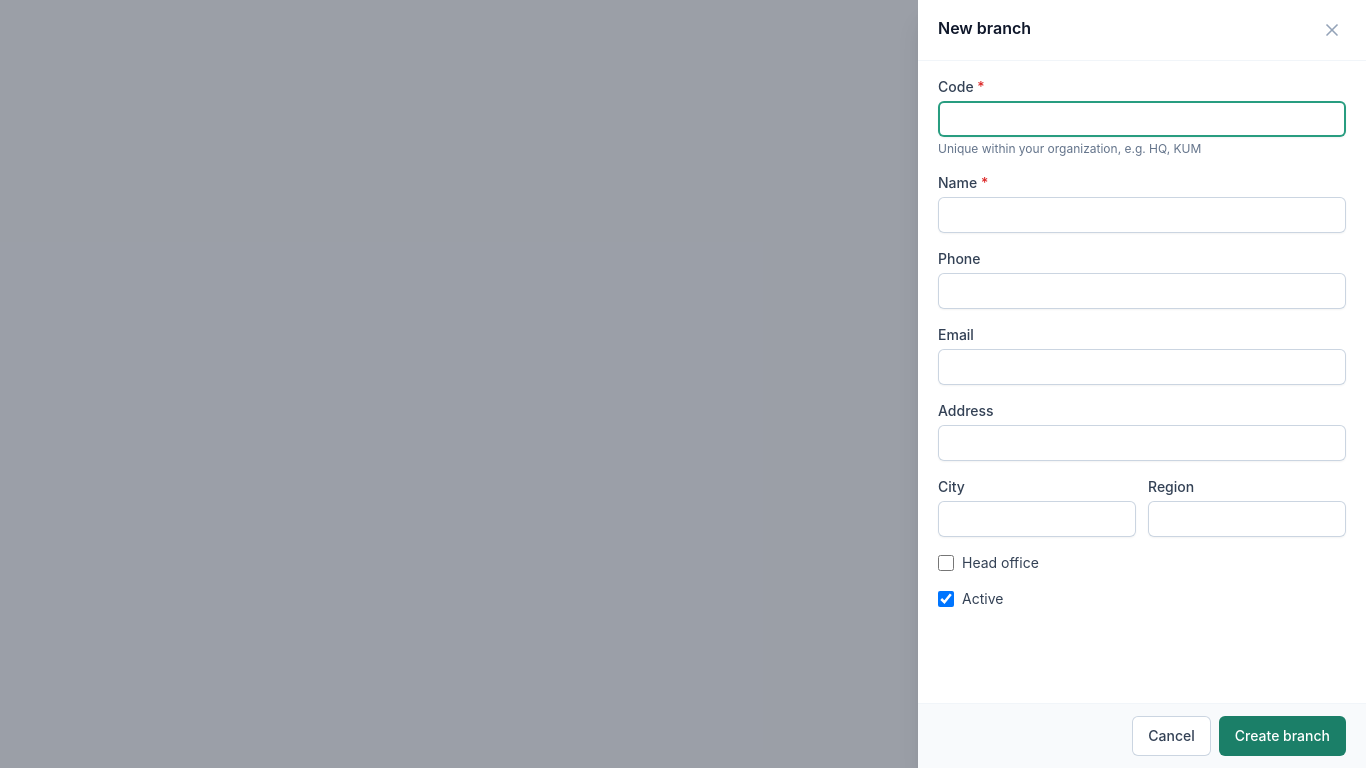
it: administration forms › shows the server message (duplicate code) inside the form and keeps it open
Type "HQ" into the field labelled "Code *".
click(1142, 119); type("HQ")  # box [938,101,1346,137]
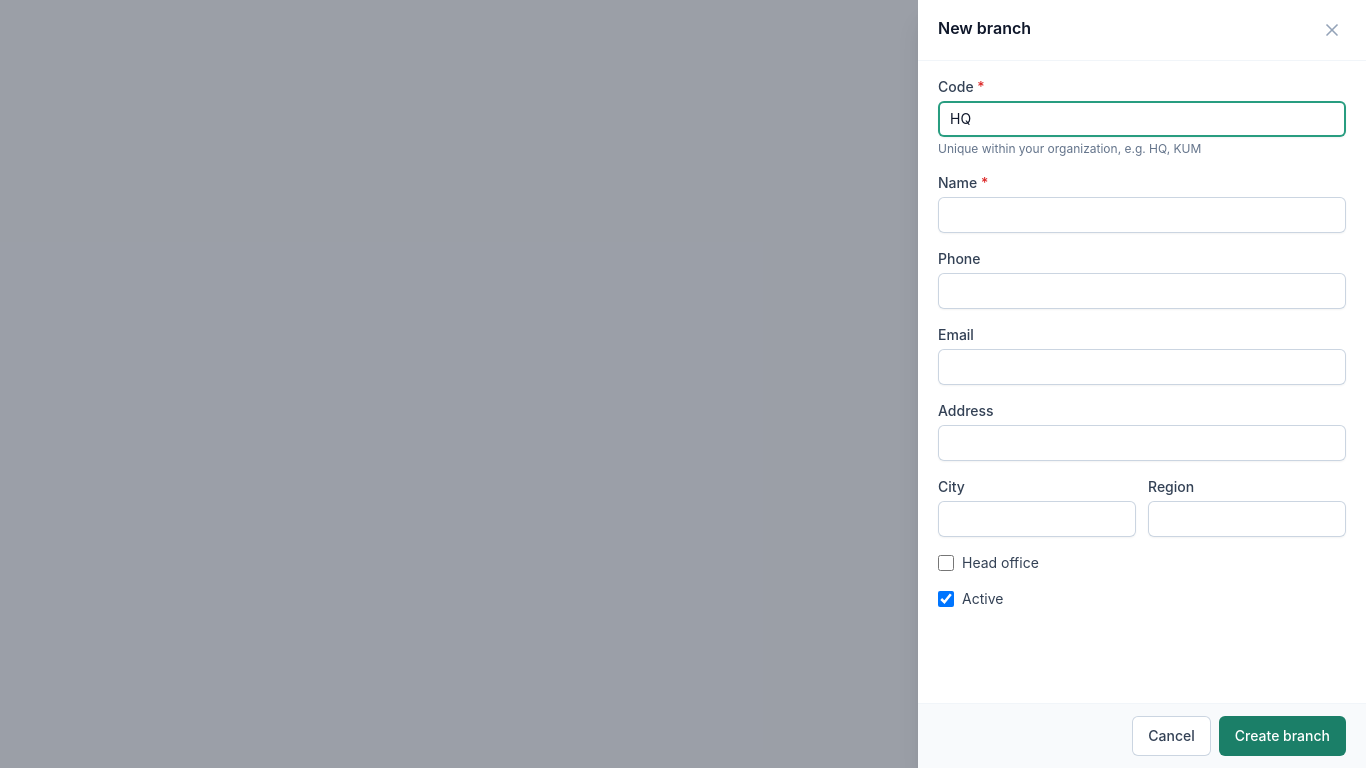
Type "Dup" into the field labelled "Name *".
click(1142, 215); type("Dup")  # box [938,197,1346,233]
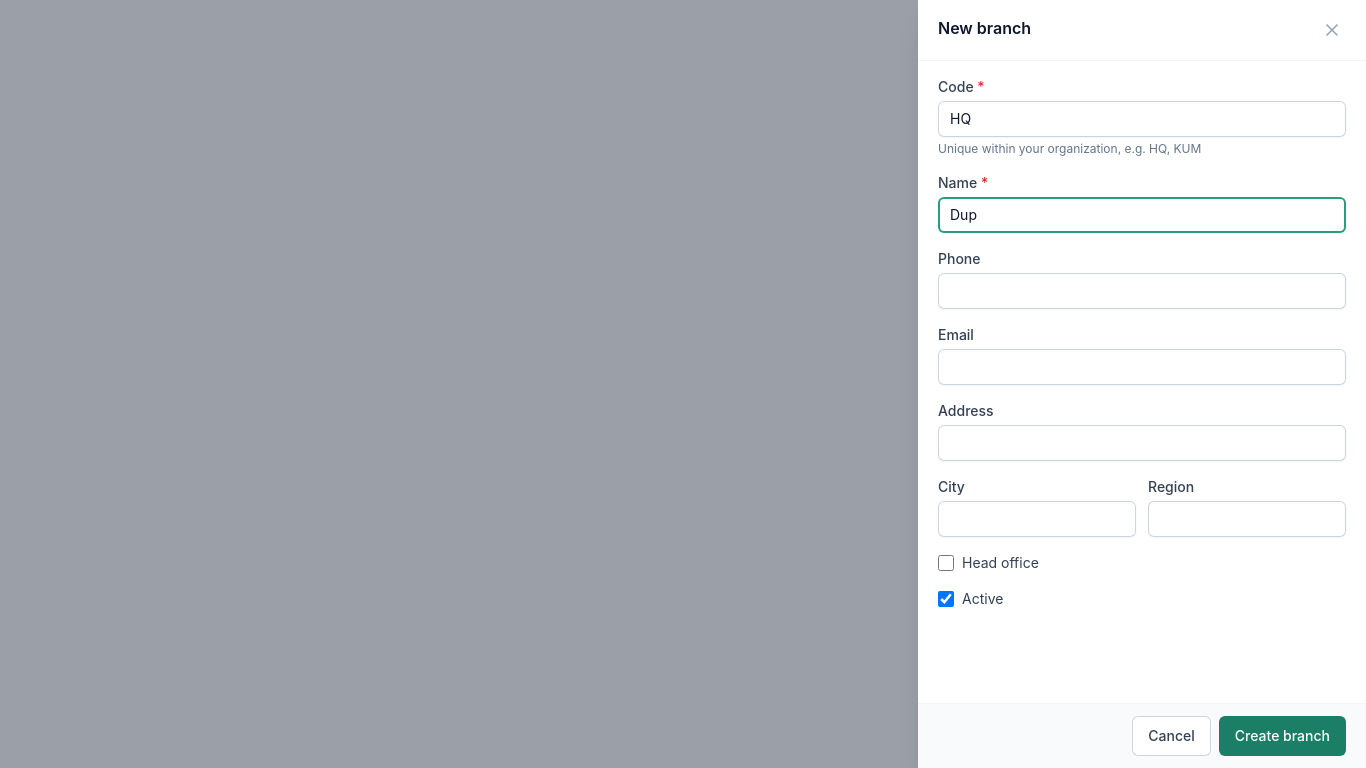
Click the button "Create branch".
click(1282, 736)  # box [1219,716,1346,756]
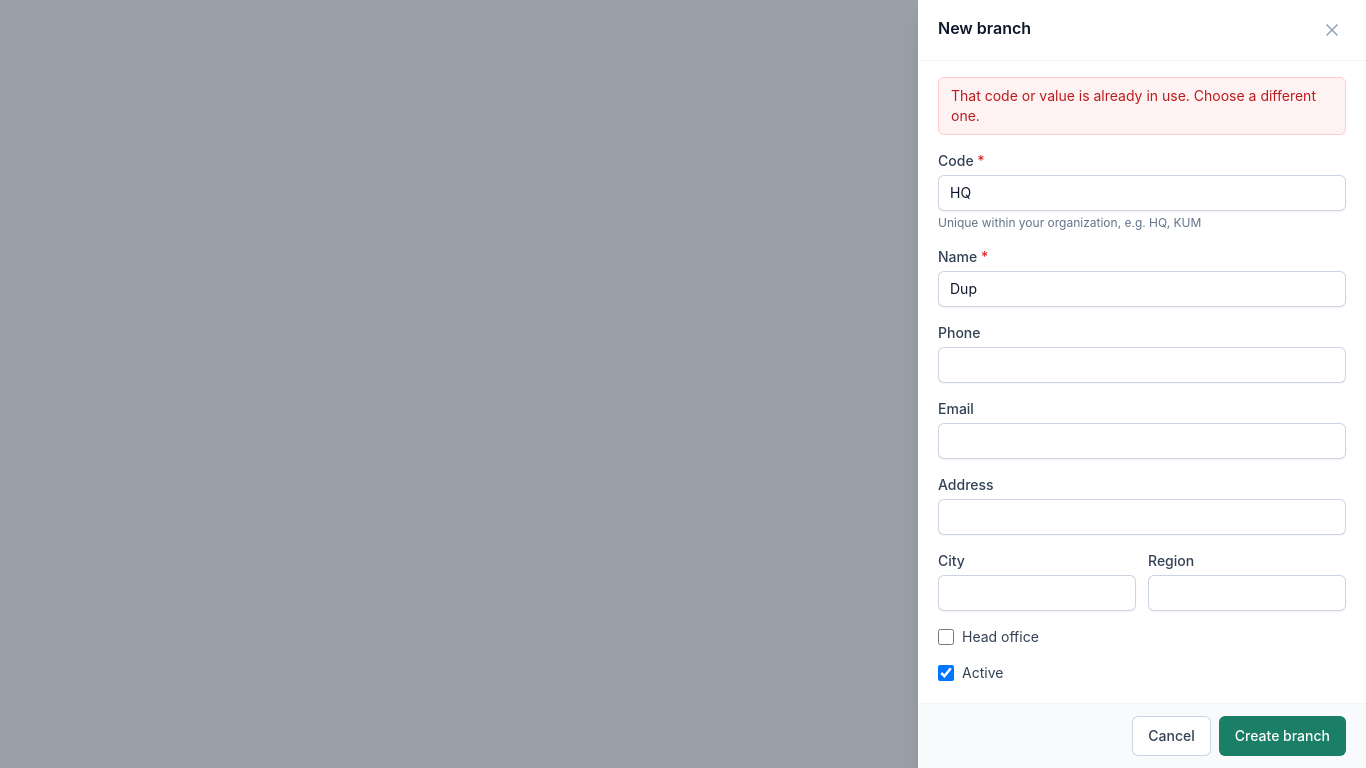
Expected: the text "That code or value is already in use. Choose a different one." is shown, [938,77,1346,135]
